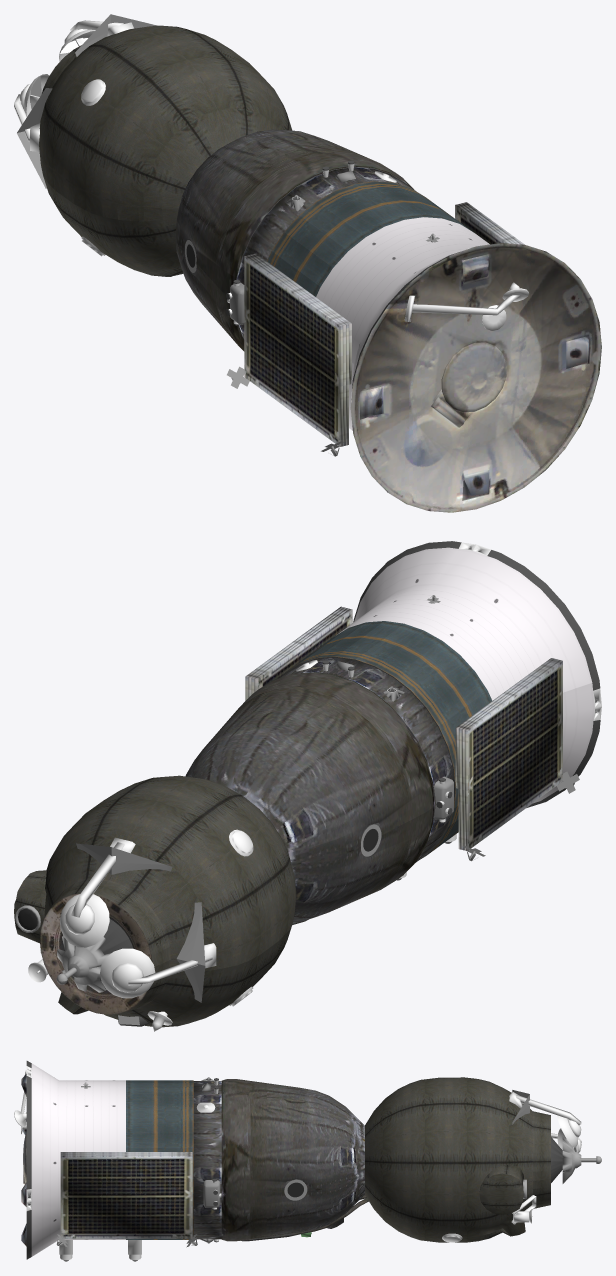
File: soyuz.obj
3 renders of one model, top to bottom at view 1: azimuth 30°, elevation 25°; view 2: azimuth 150°, elevation 25°; view 3: azimuth 270°, elevation 25°, orthographic. The views are drawn at different scales.
Visible parts, largest first — view 1: group8, group9, group3, group19, group6, group7, group2, group12, group1, group11, group14, group15 (+4 smaller); view 2: group3, group9, group6, group19, group7, group2, group13, group10, group15, group14, group1, group21 (+3 smaller); view 3: group9, group3, group24, group6, group7, group13, group1, group2, group15, group11, group8.
Boxes of the visible parts, box(x1,y1,x2,y2) form: group8: box(350, 243, 601, 512); group9: box(39, 25, 292, 276); group3: box(175, 129, 415, 351); group19: box(244, 255, 342, 446); group6: box(316, 217, 489, 430); group7: box(267, 181, 473, 296); group2: box(17, 14, 196, 272); group12: box(404, 282, 528, 330); group1: box(30, 22, 473, 406); group11: box(230, 171, 439, 324); group14: box(14, 74, 49, 141); group15: box(59, 20, 123, 61); group3: box(185, 657, 454, 924); group9: box(14, 775, 296, 1027); group6: box(336, 547, 594, 803); group19: box(464, 660, 562, 850); group7: box(286, 621, 492, 854); group2: box(15, 824, 451, 1002); group13: box(63, 541, 600, 1026); group10: box(39, 893, 152, 1014); group15: box(60, 842, 124, 947); group14: box(100, 948, 212, 998); group1: box(110, 542, 601, 1031); group21: box(254, 609, 352, 692); group9: box(365, 1077, 550, 1242); group3: box(193, 1079, 368, 1241); group24: box(60, 1155, 192, 1238); group6: box(31, 1063, 125, 1256); group7: box(126, 1080, 193, 1239); group13: box(26, 1061, 562, 1259); group1: box(26, 1066, 522, 1260); group2: box(63, 1090, 601, 1261); group15: box(516, 1095, 581, 1147); group11: box(81, 1077, 220, 1243); group8: box(21, 1074, 26, 1246).
Bounding box in the file's own units: 2.77 × 2.9 × 8.05.
Materials: 13 (7 with a texture image).
